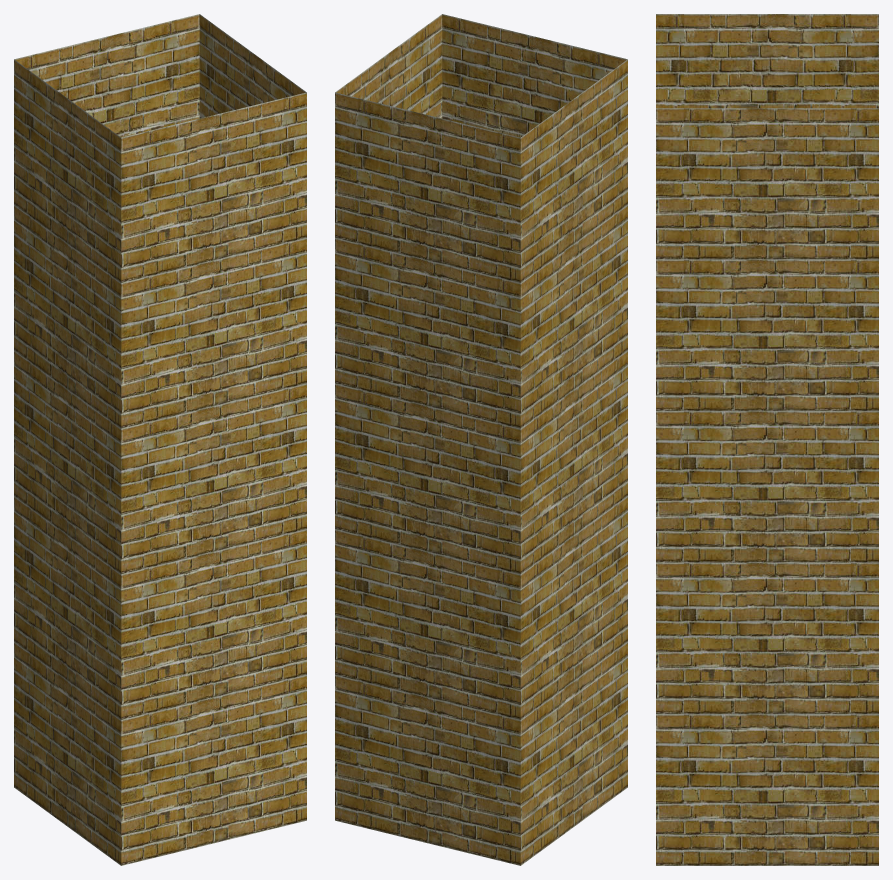
Rendered from zdWallCenterColumn10x2-8.fbx.
The picture shows the model from 3 angles, left to right: view 1: azimuth 30°, elevation 25°; view 2: azimuth 150°, elevation 25°; view 3: azimuth 270°, elevation 25°; orthographic projection. The views are drawn at different scales.
Parts seen in each view (by area): view 1: SketchUp; view 2: SketchUp; view 3: SketchUp.
Boxes of the visible parts, x1,y1,x2,y2 form: SketchUp: [14, 14, 306, 865]; SketchUp: [335, 14, 627, 865]; SketchUp: [656, 14, 878, 865].
Bounding box in the file's own units: 0.8128 × 3.05 × 0.8128.
